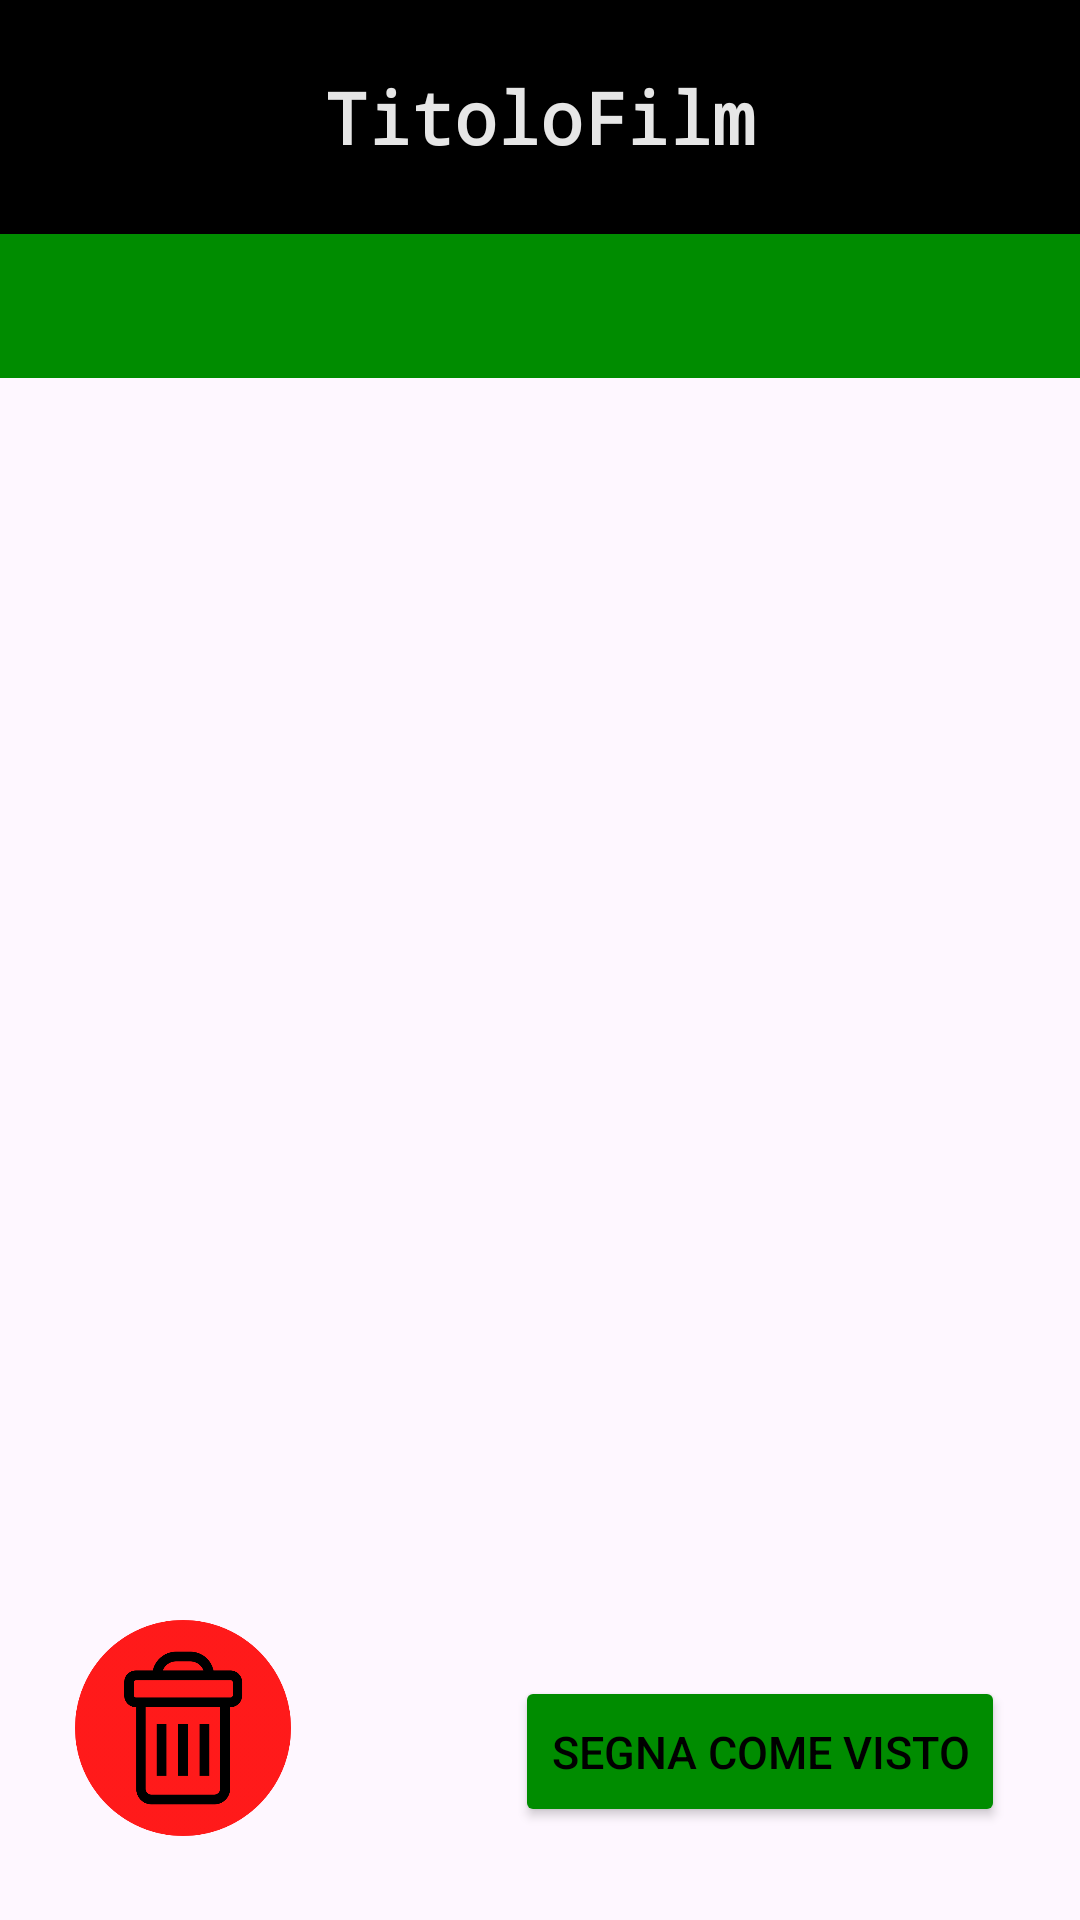

Where icons sit on this 1080*1920 app screen, as (x1, y1, x2, y2):
Button to remove media from DB: (75, 1620, 291, 1836)
